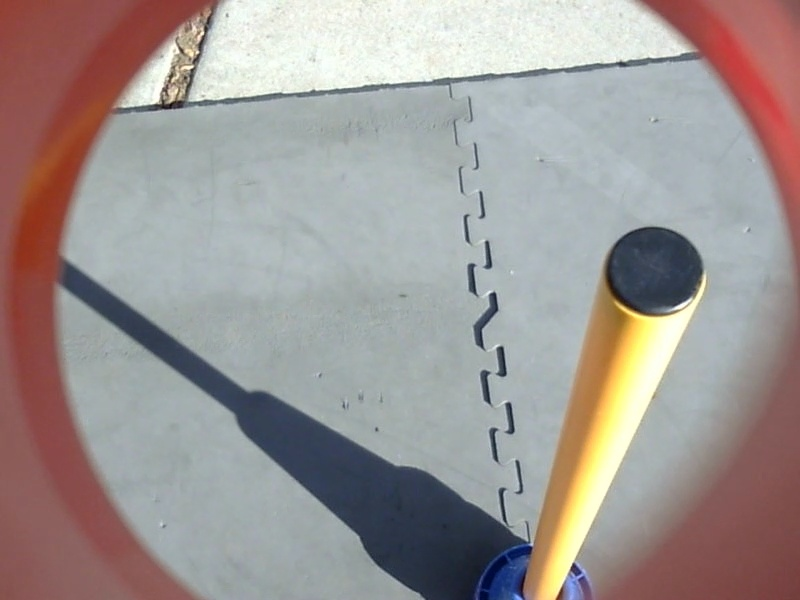tip: (598, 221, 714, 327)
